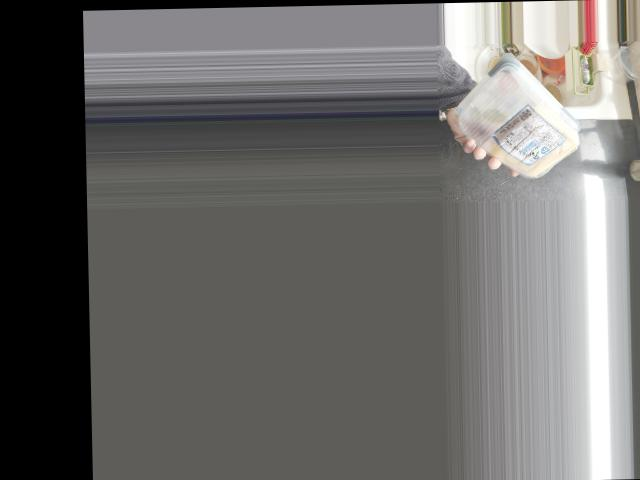cheese: (455, 69, 582, 172)
